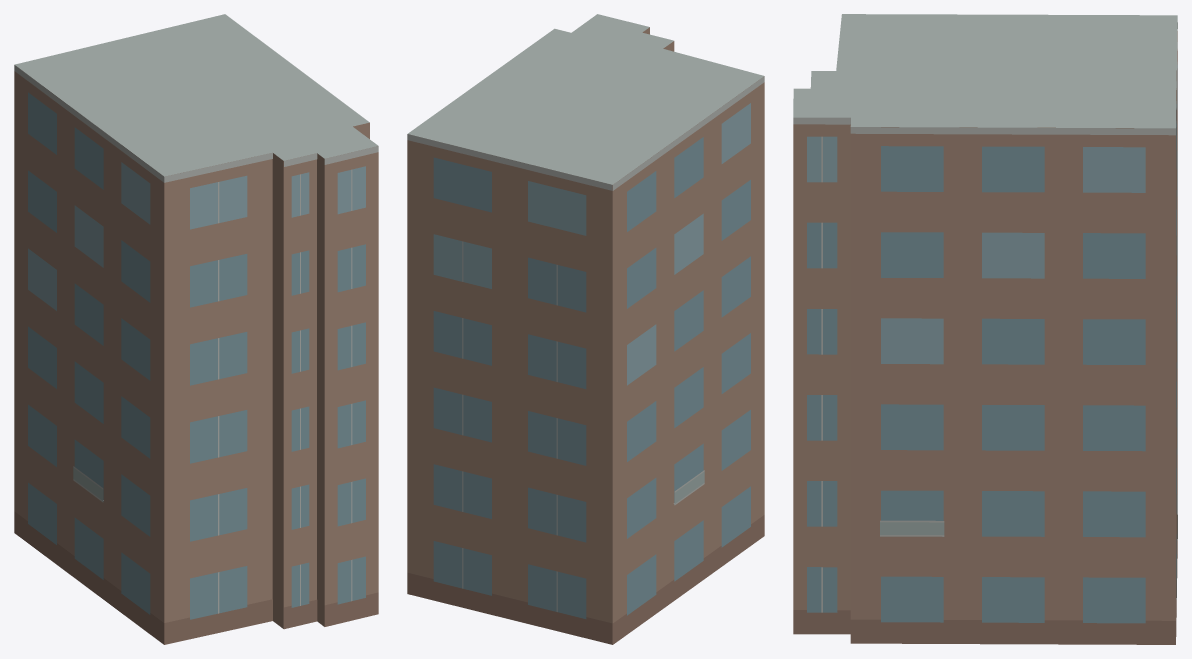
Rendered from survey-upis-32867599.glb.
3 views of the same model, side by side, from view 1: azimuth 30°, elevation 25°; view 2: azimuth 150°, elevation 25°; view 3: azimuth 270°, elevation 25° (orthographic). The views are drawn at different scales.
Parts seen in each view (by area): view 1: survey-upis-32867599.tmp; view 2: survey-upis-32867599.tmp; view 3: survey-upis-32867599.tmp.
Part boxes in pixels (x1,y1,x2,y2): survey-upis-32867599.tmp: (14,14,378,644); survey-upis-32867599.tmp: (407,14,764,644); survey-upis-32867599.tmp: (793,14,1177,644).
Size of the model in its own units: 8.69 by 18.3 by 12.36.
